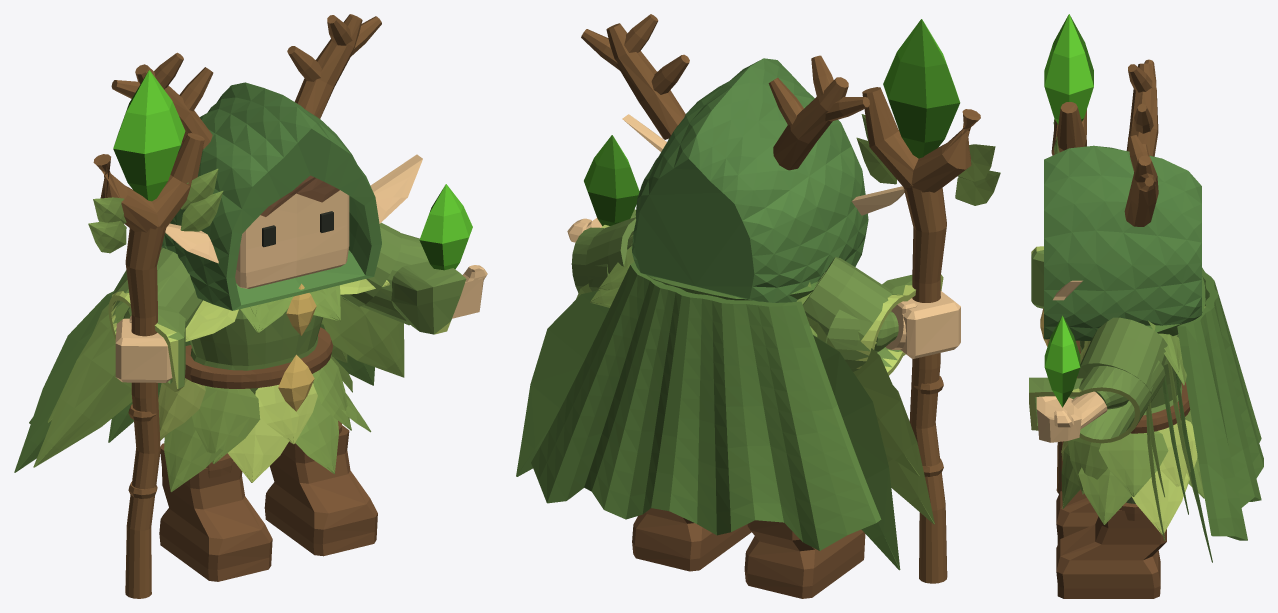
Rendered from greenheart.glb.
3 renders of one model, left to right at view 1: azimuth 30°, elevation 25°; view 2: azimuth 150°, elevation 25°; view 3: azimuth 270°, elevation 25°, orthographic. The views are drawn at different scales.
Parts seen in each view (by area): view 1: Hood — peaked source fold facets and closed fitted inner cav, RIGHT boot — broad source angular toe ankle and fitted shaft, LEFT boot — broad source angular toe ankle and fitted shaft, RIGHT staff — connected bent living wood shaft, Head — one continuous bevelled jaw cheek forehead and concea, LEFT nature arm — full outer sleeve with open fitted wrist c, Staff source primary large faceted focus, RIGHT outer diagonal cloak leaf fan 2, Torso — clothed rib cage abdomen and fitted shoulder transit, RIGHT staff arm — full outer sleeve with open fitted wrist c, LEFT outer diagonal cloak leaf fan 2, Tunic skirt — overlapping pointed leaf tier 1 panel 8 (+29 smaller); view 2: Cape — connected draped folded rear fabric with source scall, Hood — peaked source fold facets and closed fitted inner cav, RIGHT staff — connected bent living wood shaft, RIGHT staff arm — full outer sleeve with open fitted wrist c, Staff source primary large faceted focus, LEFT cloak overlapping long leaf fold 3, RIGHT boot — broad source angular toe ankle and fitted shaft, RIGHT cloak overlapping long leaf fold 3, LEFT boot — broad source angular toe ankle and fitted shaft, RIGHT staff arm hand — compact source grip palm and thumb so, LEFT palm supported green focus, RIGHT outer diagonal cloak leaf fan 1 (+15 smaller); view 3: Hood — peaked source fold facets and closed fitted inner cav, Cape — connected draped folded rear fabric with source scall, LEFT nature arm — full outer sleeve with open fitted wrist c, LEFT boot — broad source angular toe ankle and fitted shaft, Staff source primary large faceted focus, LEFT nature arm hand — connected planar source palm wrist an, Tunic skirt — overlapping pointed leaf tier 1 panel 5, LEFT palm supported green focus, Tunic skirt — overlapping pointed leaf tier 2 panel 4, Tunic skirt — overlapping pointed leaf tier 2 panel 5, LEFT antler — shaped main branch, RIGHT boot — broad source angular toe ankle and fitted shaft (+20 smaller).
Boxes of the visible parts, x1=… form: Hood — peaked source fold facets and closed fitted inner cav: x1=161, y1=82, x2=381, y2=310; RIGHT boot — broad source angular toe ankle and fitted shaft: x1=159, y1=443, x2=272, y2=581; LEFT boot — broad source angular toe ankle and fitted shaft: x1=264, y1=425, x2=377, y2=556; RIGHT staff — connected bent living wood shaft: x1=125, y1=225, x2=165, y2=598; Head — one continuous bevelled jaw cheek forehead and concea: x1=235, y1=190, x2=349, y2=288; LEFT nature arm — full outer sleeve with open fitted wrist c: x1=340, y1=222, x2=466, y2=334; Staff source primary large faceted focus: x1=113, y1=70, x2=185, y2=201; RIGHT outer diagonal cloak leaf fan 2: x1=33, y1=318, x2=132, y2=467; Torso — clothed rib cage abdomen and fitted shoulder transit: x1=190, y1=308, x2=322, y2=394; RIGHT staff arm — full outer sleeve with open fitted wrist c: x1=108, y1=247, x2=202, y2=391; LEFT outer diagonal cloak leaf fan 2: x1=322, y1=296, x2=404, y2=377; Tunic skirt — overlapping pointed leaf tier 1 panel 8: x1=192, y1=386, x2=260, y2=463; Cape — connected draped folded rear fabric with source scall: x1=531, y1=262, x2=881, y2=550; Hood — peaked source fold facets and closed fitted inner cav: x1=632, y1=58, x2=868, y2=302; RIGHT staff — connected bent living wood shaft: x1=903, y1=187, x2=947, y2=583; RIGHT staff arm — full outer sleeve with open fitted wrist c: x1=803, y1=257, x2=943, y2=375; Staff source primary large faceted focus: x1=883, y1=19, x2=960, y2=158; LEFT cloak overlapping long leaf fold 3: x1=516, y1=290, x2=609, y2=476; RIGHT boot — broad source angular toe ankle and fitted shaft: x1=744, y1=520, x2=865, y2=598; RIGHT cloak overlapping long leaf fold 3: x1=813, y1=335, x2=900, y2=570; LEFT boot — broad source angular toe ankle and fitted shaft: x1=632, y1=508, x2=751, y2=571; RIGHT staff arm hand — compact source grip palm and thumb so: x1=886, y1=291, x2=960, y2=358; LEFT palm supported green focus: x1=584, y1=135, x2=639, y2=225; RIGHT outer diagonal cloak leaf fan 1: x1=853, y1=348, x2=919, y2=476; Hood — peaked source fold facets and closed fitted inner cav: x1=1044, y1=145, x2=1201, y2=340; Cape — connected draped folded rear fabric with source scall: x1=1177, y1=267, x2=1263, y2=540; LEFT nature arm — full outer sleeve with open fitted wrist c: x1=1029, y1=317, x2=1167, y2=443; LEFT boot — broad source angular toe ankle and fitted shaft: x1=1056, y1=510, x2=1166, y2=598; Staff source primary large faceted focus: x1=1044, y1=14, x2=1093, y2=124; LEFT nature arm hand — connected planar source palm wrist an: x1=1036, y1=391, x2=1107, y2=442; Tunic skirt — overlapping pointed leaf tier 1 panel 5: x1=1099, y1=431, x2=1168, y2=496; LEFT palm supported green focus: x1=1044, y1=316, x2=1080, y2=407; Tunic skirt — overlapping pointed leaf tier 2 panel 4: x1=1131, y1=469, x2=1188, y2=535; Tunic skirt — overlapping pointed leaf tier 2 panel 5: x1=1078, y1=467, x2=1131, y2=524; LEFT antler — shaped main branch: x1=1124, y1=155, x2=1158, y2=226; RIGHT boot — broad source angular toe ankle and fitted shaft: x1=1056, y1=489, x2=1098, y2=544.
Bounding box in the file's own units: 0.8953 × 1.12 × 0.492.
